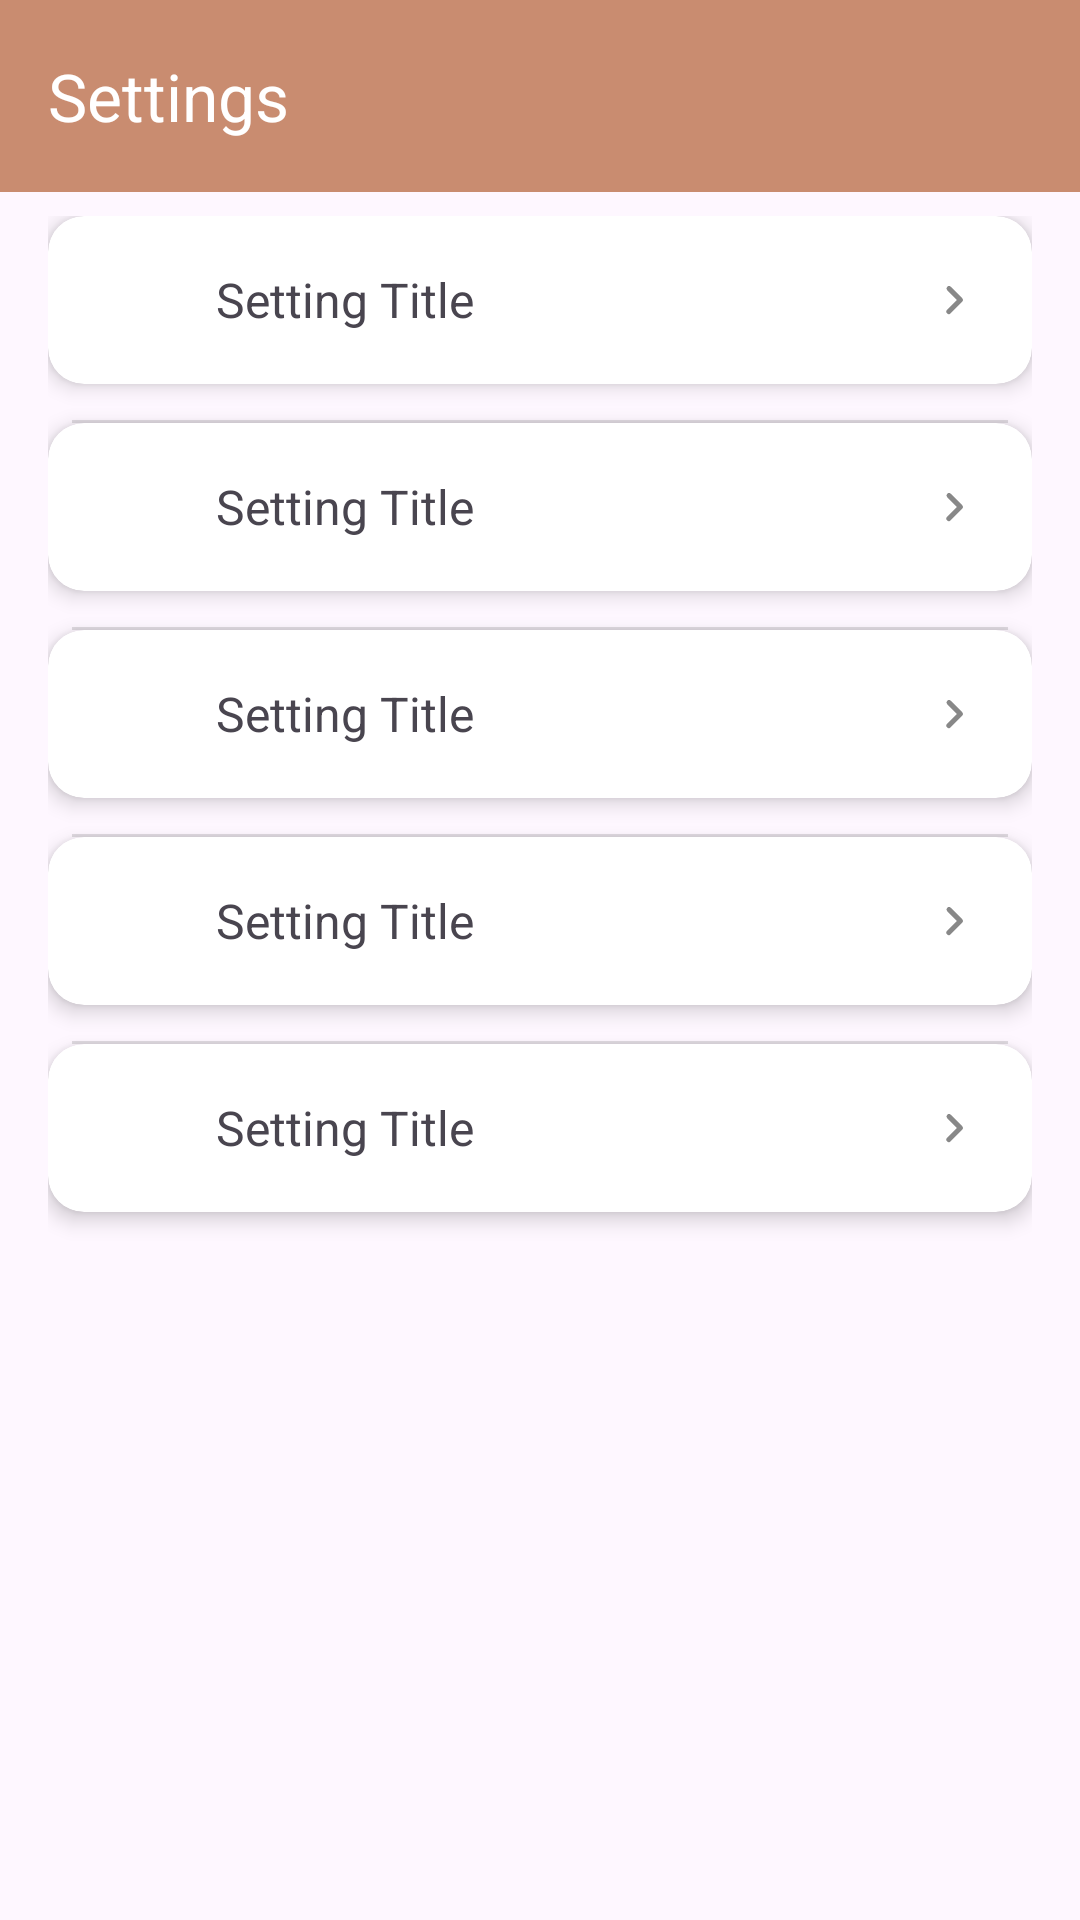

Where icons sit on this 1080px×1920px app screen, as (x1, y1, x2, y2):
chevron right: (946, 286, 963, 314), (946, 493, 963, 521), (946, 700, 963, 728), (946, 907, 963, 935), (946, 1114, 963, 1142)
